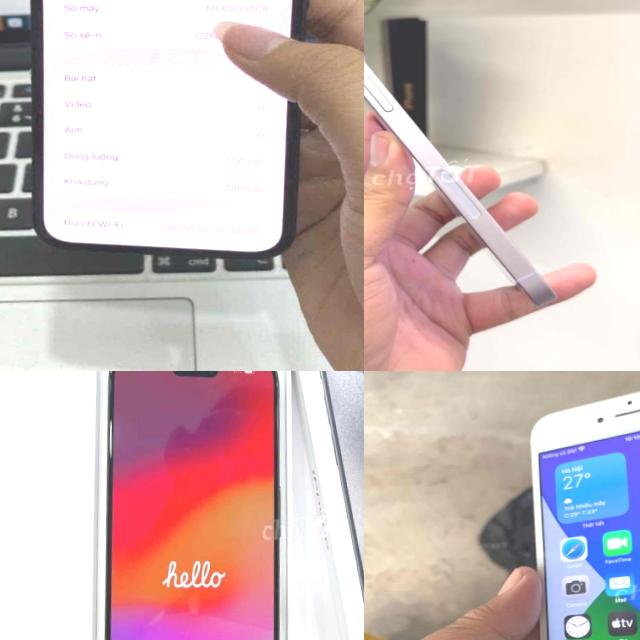gen_12_13: (24, 0, 327, 268)
gen_14: (364, 58, 555, 305)
gen_15: (55, 371, 295, 640)
gen_6: (518, 371, 640, 640)
